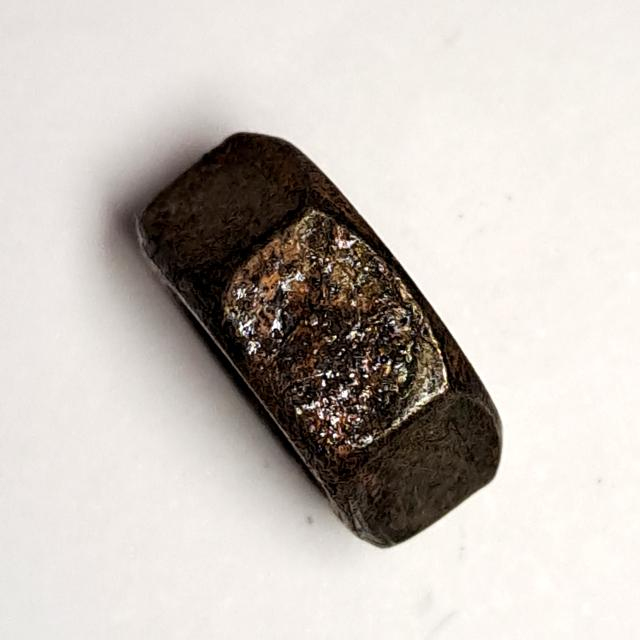Side_Rust: (113, 115, 524, 565)
